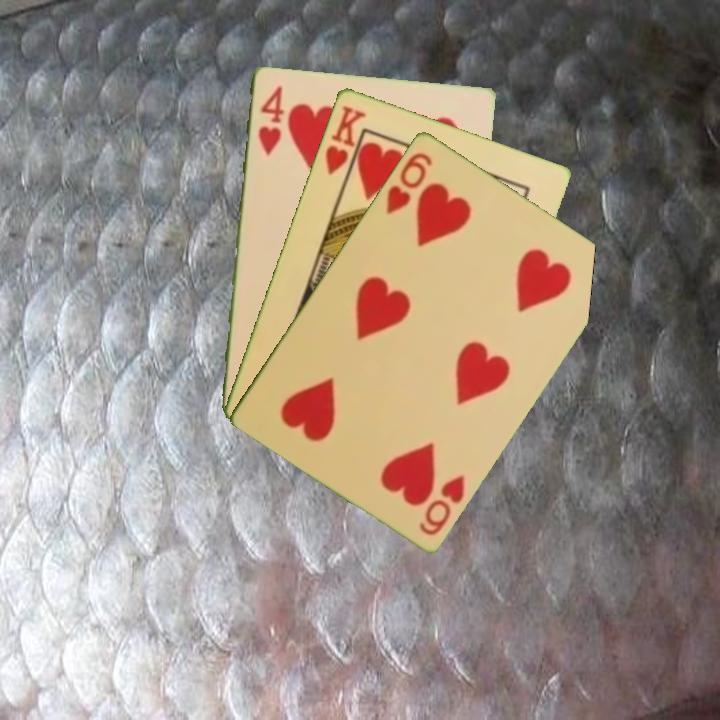4h: (254, 82, 285, 159)
6h: (382, 148, 435, 217), (415, 470, 468, 538)
Kh: (321, 101, 368, 186)
